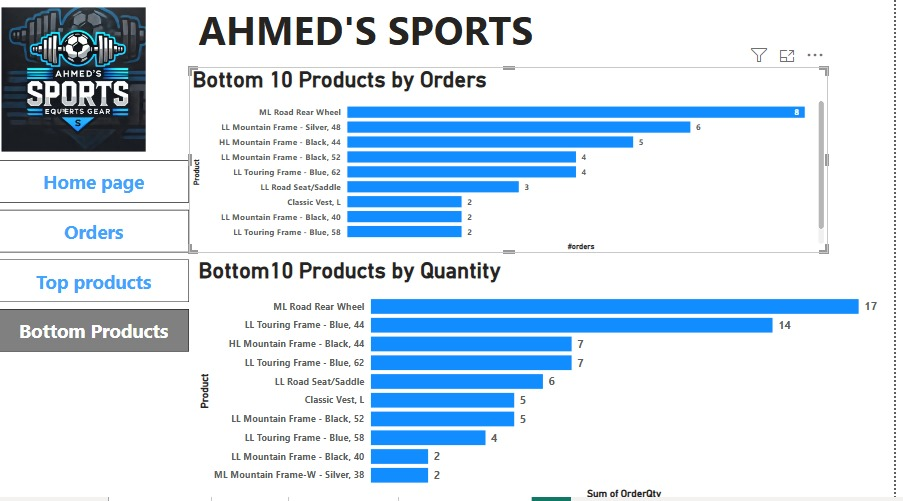

Layout of this report page (visuals, bound fields, positions):
{"tool":"powerbi","page":{"name":"Bottom Products","canvas":[1280,720],"ordinal":3},"visuals":[{"type":"image","box":[0,0,215.7,230],"z":0},{"type":"textbox","box":[281.1,0,527.8,92.2],"z":1000},{"type":"pageNavigator","box":[0,230,273.3,276.7],"z":2000},{"type":"clusteredBarChart","title":"Bottom 10 Products by Orders","fields":{"Y":["Dax measures.#orders"],"Category":["Dim products.Product"]},"box":[273.3,96.7,912.2,266.7],"z":3000},{"type":"clusteredBarChart","title":"Bottom10 Products by Quantity","fields":{"Y":["Sum(fact orders.OrderQty)"],"Category":["Dim products.Product"]},"box":[281.1,370,980,350],"z":4000}]}

Visuals, with their boxes on the page's 1280x720 design canvas (x1, y1, x2, y2). These are canvas units, not pixel positions in the 903x501 screenshot, which may show the page scaled, cropped or inside an application window:
image: (left=0, top=0, right=216, bottom=230)
textbox: (left=281, top=0, right=809, bottom=92)
pageNavigator: (left=0, top=230, right=273, bottom=507)
"Bottom 10 Products by Orders" clusteredBarChart: (left=273, top=97, right=1186, bottom=363)
"Bottom10 Products by Quantity" clusteredBarChart: (left=281, top=370, right=1261, bottom=720)
